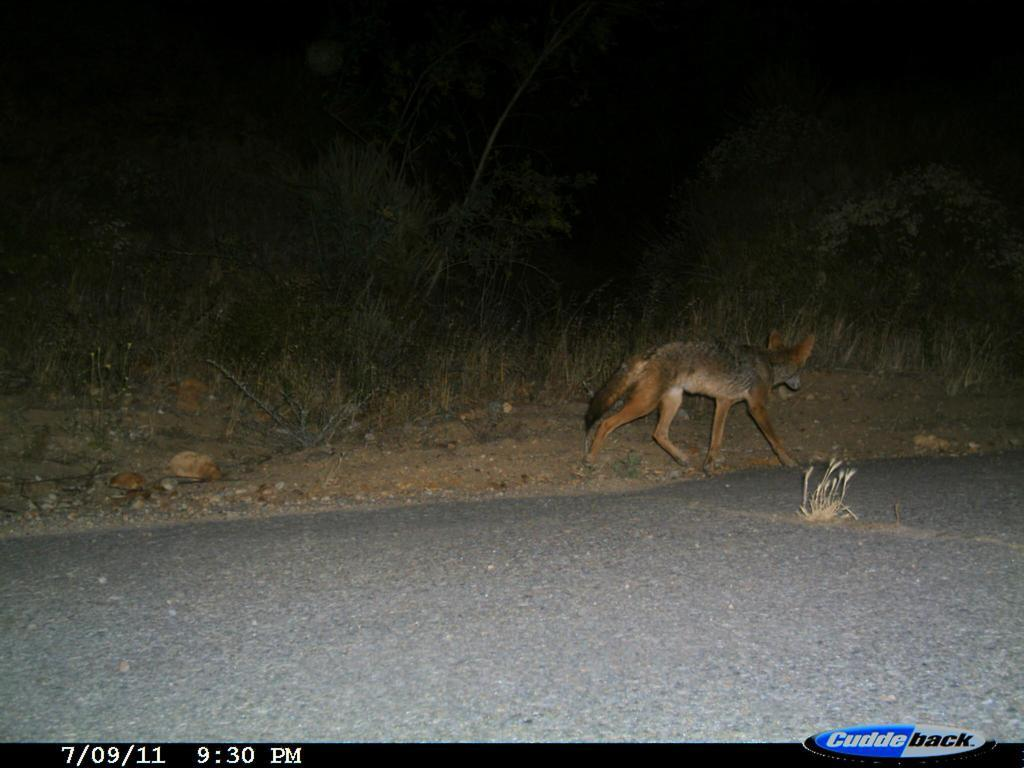coyote: (580, 326, 825, 477)
